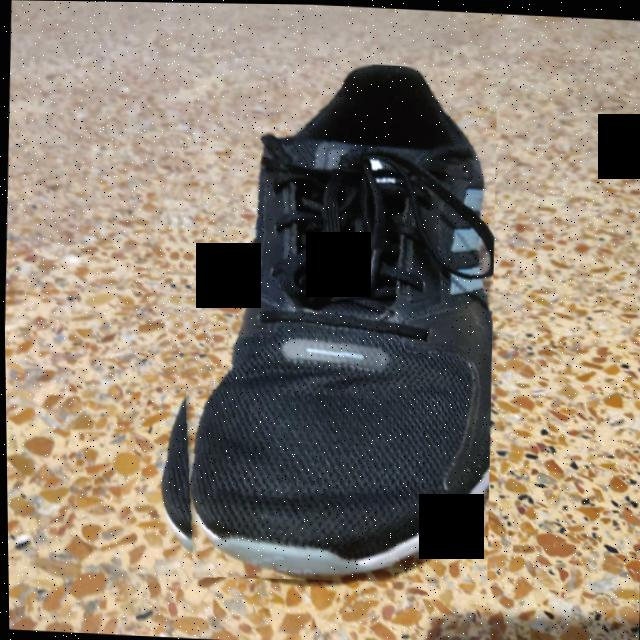shoe: (151, 53, 503, 589)
